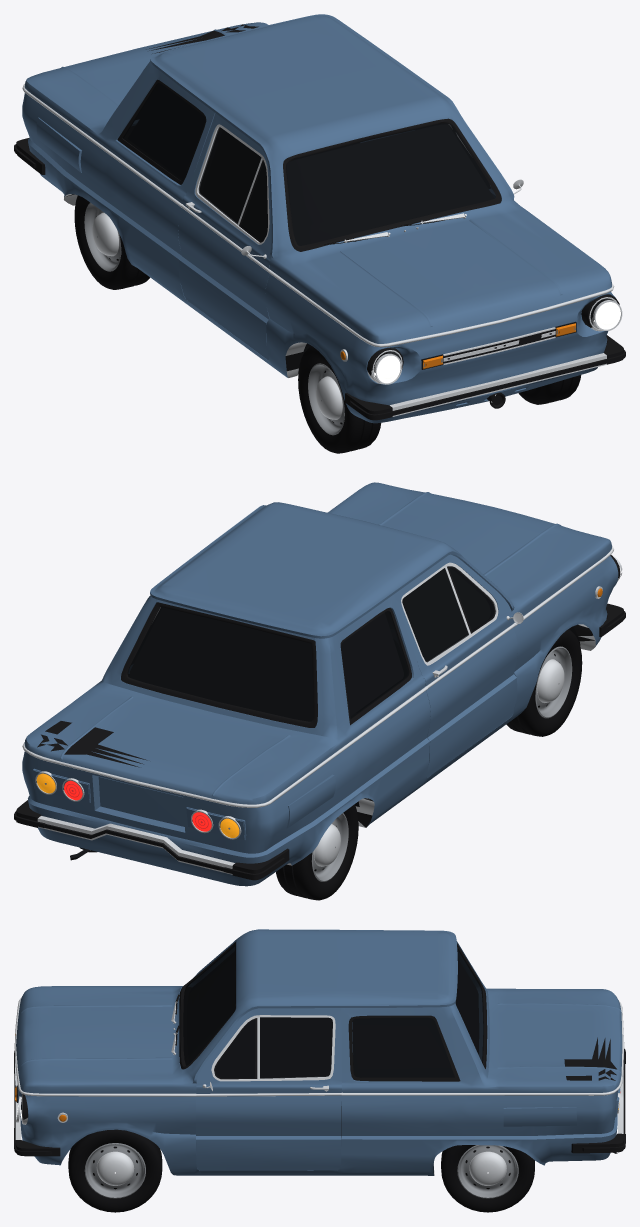
The model's file is car_zaporozhets.glb.
3 views of the same model, one above another, from view 1: azimuth 30°, elevation 25°; view 2: azimuth 150°, elevation 25°; view 3: azimuth 270°, elevation 25° (orthographic). The views are drawn at different scales.
Parts seen in each view (by area): view 1: body, cabin, wheel_FR, wheel_RR, tail_lamps, wheel_FL; view 2: body, cabin, wheel_FR, wheel_RR, tail_lamps; view 3: body, cabin, wheel_FL, wheel_RL.
Boxes of the visible parts, box(x1,y1,x2,y2) form: body: box(14, 14, 625, 423); cabin: box(128, 83, 604, 361); wheel_FR: box(298, 346, 381, 453); wheel_RR: box(74, 195, 149, 289); tail_lamps: box(374, 300, 622, 384); wheel_FL: box(518, 375, 581, 404); body: box(14, 482, 625, 886); cabin: box(130, 568, 490, 720); wheel_FR: box(506, 629, 582, 736); wheel_RR: box(276, 804, 358, 900); tail_lamps: box(35, 555, 622, 839); body: box(14, 929, 625, 1175); cabin: box(187, 952, 478, 1077); wheel_FL: box(68, 1129, 162, 1212); wheel_RL: box(441, 1145, 534, 1212).
Size of what is drawn, in the model's own units: 1.57 by 1.31 by 3.55.
Materials: 14 (1 with a texture image).
